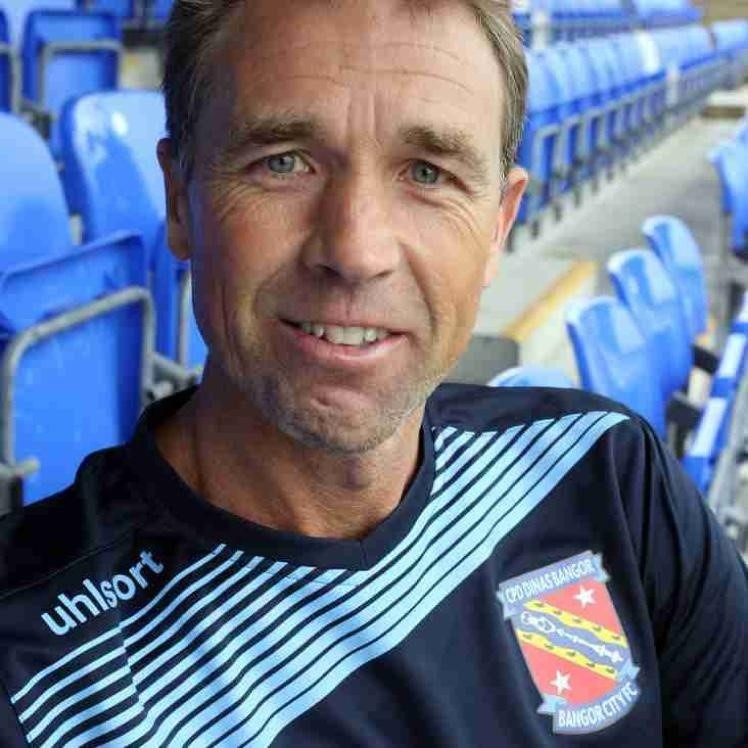face_no_mask: (167, 4, 528, 451)
